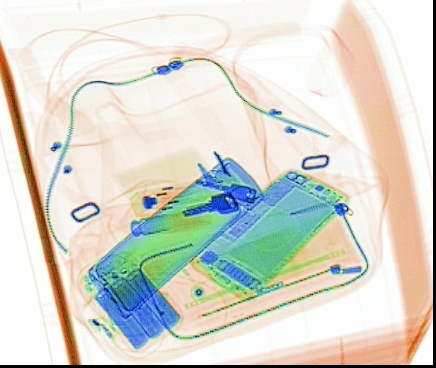powerbank: (78, 250, 182, 352)
